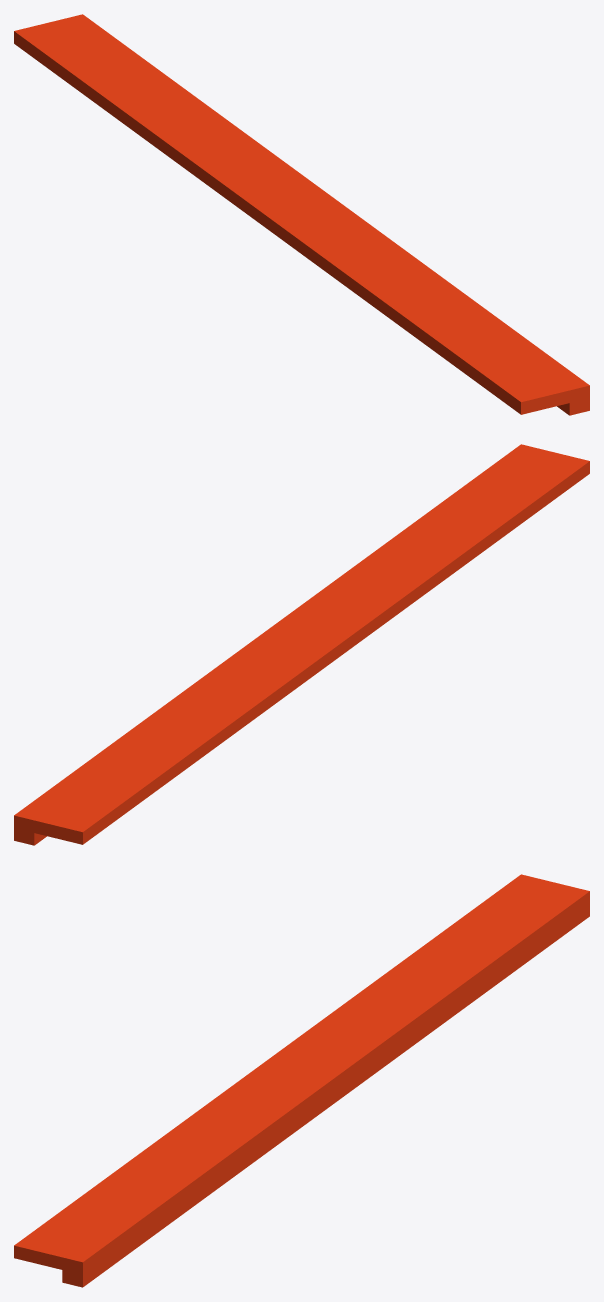
Rendered from BlinderTop.fbx.
The picture shows the model from 3 angles, top to bottom: view 1: azimuth 30°, elevation 25°; view 2: azimuth 150°, elevation 25°; view 3: azimuth 330°, elevation 25°; orthographic projection.
Visible parts, largest first — view 1: BlinderTop; view 2: BlinderTop; view 3: BlinderTop.
Boxes of the visible parts, x1,y1,x2,y2 form: BlinderTop: [14, 14, 589, 415]; BlinderTop: [14, 444, 589, 845]; BlinderTop: [14, 874, 589, 1287].
Size of the model in its own units: 0.1558 by 0.0546 by 1.99.
